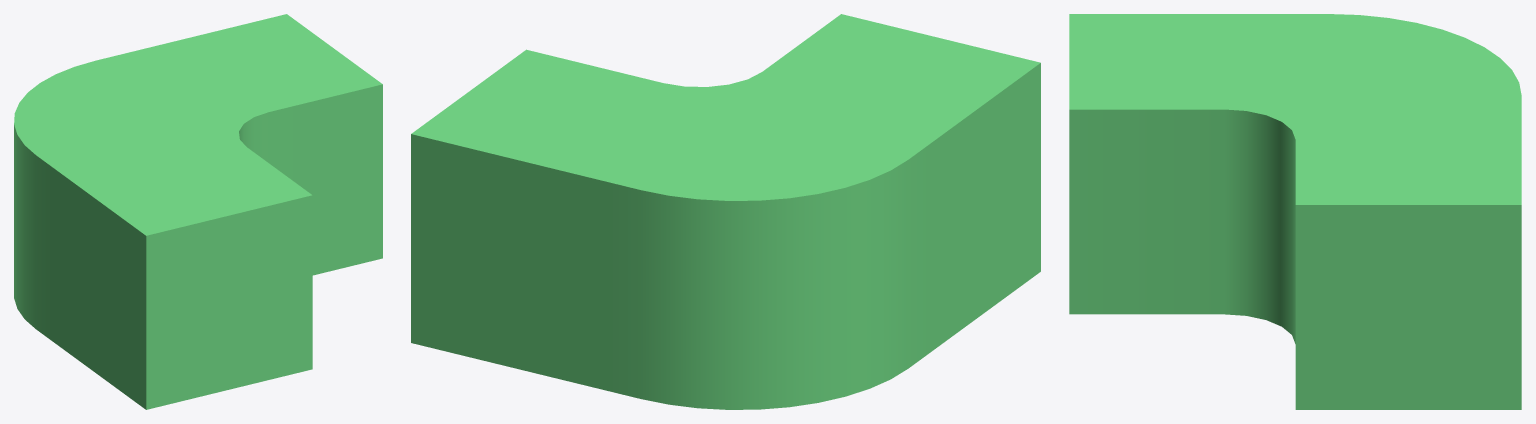
The model's file is LTwall.fbx.
3 views of the same model, side by side, from view 1: azimuth 30°, elevation 25°; view 2: azimuth 150°, elevation 25°; view 3: azimuth 270°, elevation 25° (orthographic). The views are drawn at different scales.
Parts seen in each view (by area): view 1: LT wall; view 2: LT wall; view 3: LT wall.
Part boxes in pixels (x1,y1,x2,y2): LT wall: (14, 14, 382, 409); LT wall: (411, 14, 1040, 409); LT wall: (1069, 14, 1521, 409).
Size of the model in its own units: 400 by 200 by 400.
